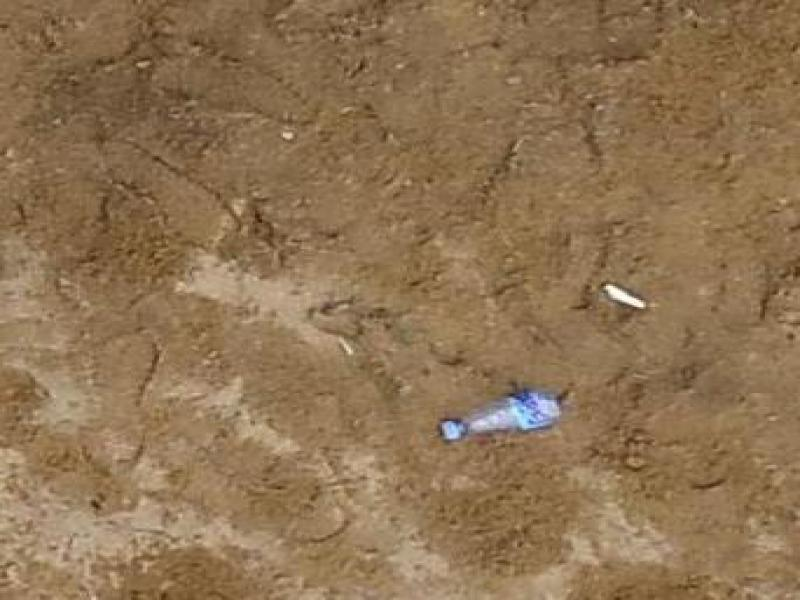bottle: (433, 375, 584, 453)
